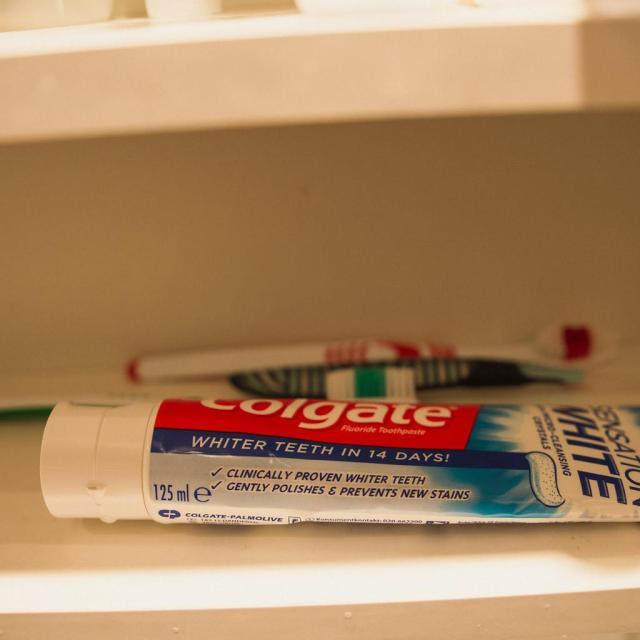Toothpaste: (35, 392, 640, 528)
